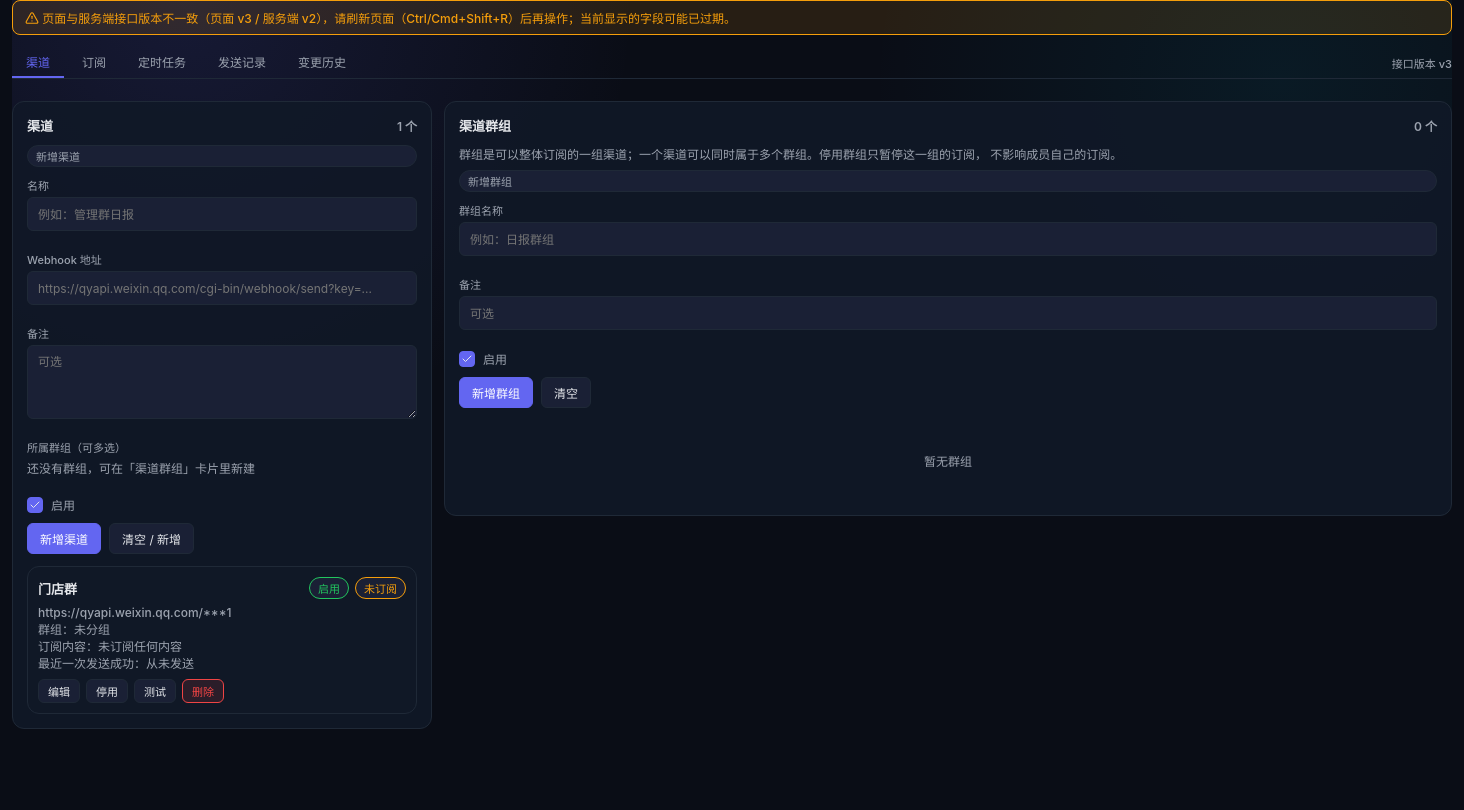
Test case: 发送记录 tab 的列表 › 还没完成的行显示入队时间并标注「未完成」，不会被读成已发送
Click the button "发送记录" at (242, 62), box x1=204 y1=47 x2=280 y2=78
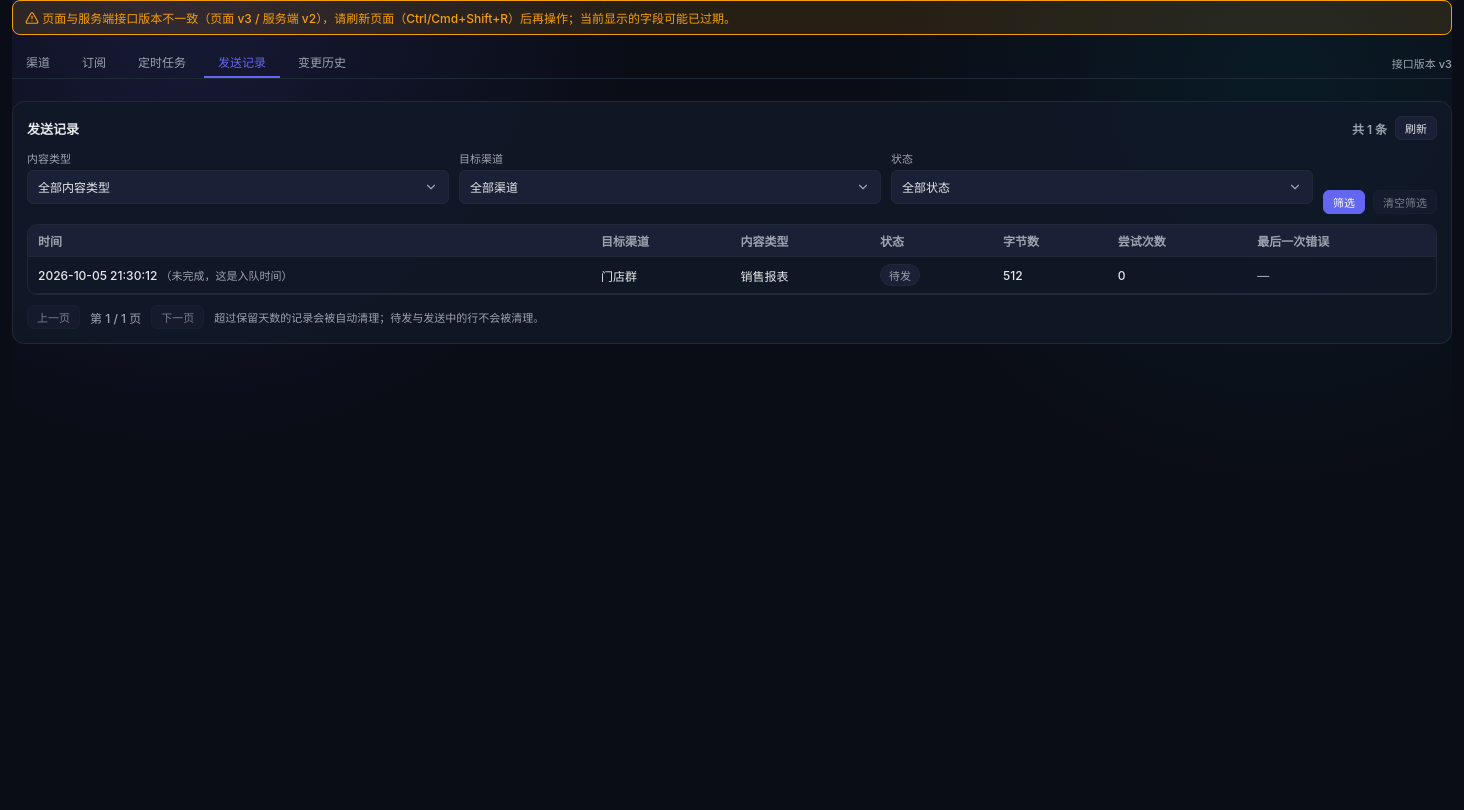
Expected: the row "2026-10-05 21:30:12 （未完成，这是入队时间） 门店群 销售报表 待发 512 0 —" is shown, x1=28 y1=256 x2=1436 y2=294
